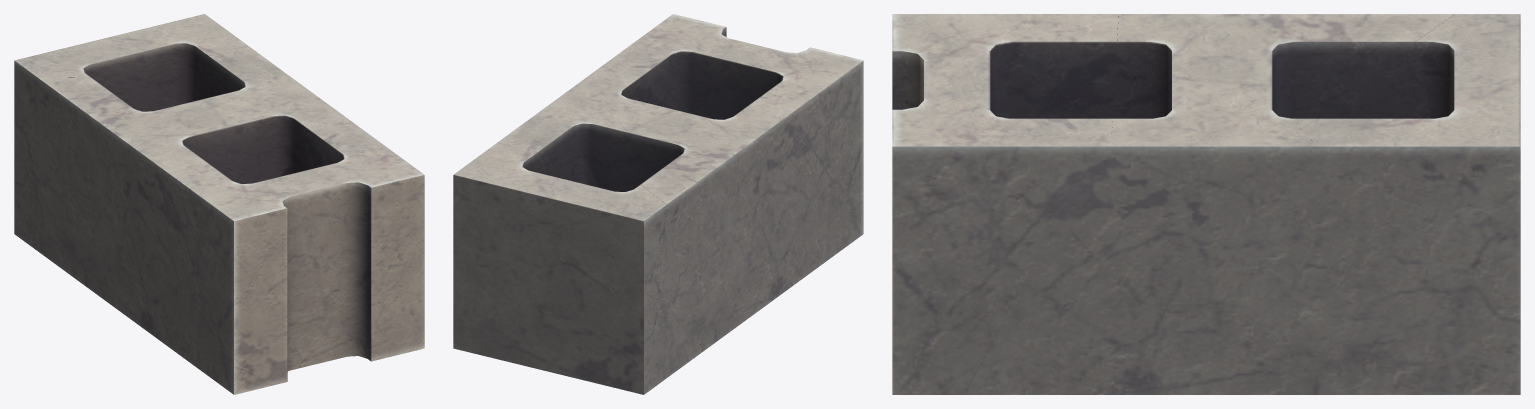
The model's file is cinder_block_pieces.fbx.
3 renders of one model, left to right at view 1: azimuth 30°, elevation 25°; view 2: azimuth 150°, elevation 25°; view 3: azimuth 270°, elevation 25°, orthographic. The views are drawn at different scales.
Parts seen in each view (by area): view 1: Cube_015.001_cell.002, Cube_015.001_cell.001, Cube_015.001_cell.004, Cube_015.001_cell.003; view 2: Cube_015.001_cell.001, Cube_015.001_cell.004, Cube_015.001_cell.002, Cube_015.001_cell, Cube_015.001_cell.003; view 3: Cube_015.001_cell.003, Cube_015.001_cell.002, Cube_015.001_cell.001, Cube_015.001_cell.004, Cube_015.001_cell.
Boxes of the visible parts, <box> form: Cube_015.001_cell.002: <box>155,122,424,394</box>; Cube_015.001_cell.001: <box>20,77,333,348</box>; Cube_015.001_cell.004: <box>14,14,275,229</box>; Cube_015.001_cell.003: <box>252,66,352,176</box>; Cube_015.001_cell.001: <box>563,73,800,387</box>; Cube_015.001_cell.004: <box>453,123,666,390</box>; Cube_015.001_cell.002: <box>602,14,863,279</box>; Cube_015.001_cell: <box>453,275,653,394</box>; Cube_015.001_cell.003: <box>524,66,609,187</box>; Cube_015.001_cell.003: <box>964,125,1383,394</box>; Cube_015.001_cell.002: <box>892,14,1118,394</box>; Cube_015.001_cell.001: <box>1102,14,1454,137</box>; Cube_015.001_cell.004: <box>1296,14,1520,289</box>; Cube_015.001_cell: <box>1365,224,1520,394</box>.
Bounding box in the file's own units: 100 × 87.12 × 200.
